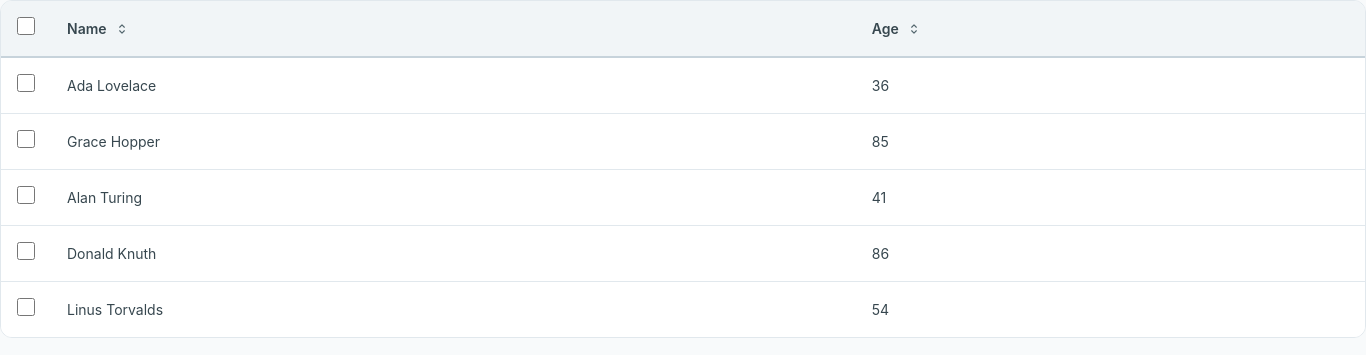
Scenario: DataTable › selection › header checkbox is indeterminate when some (not all) page rows are selected
The width and height of the screenshot is (1366, 355).
Click the checkbox named "Select row ": (26, 83) [17, 74, 35, 92]
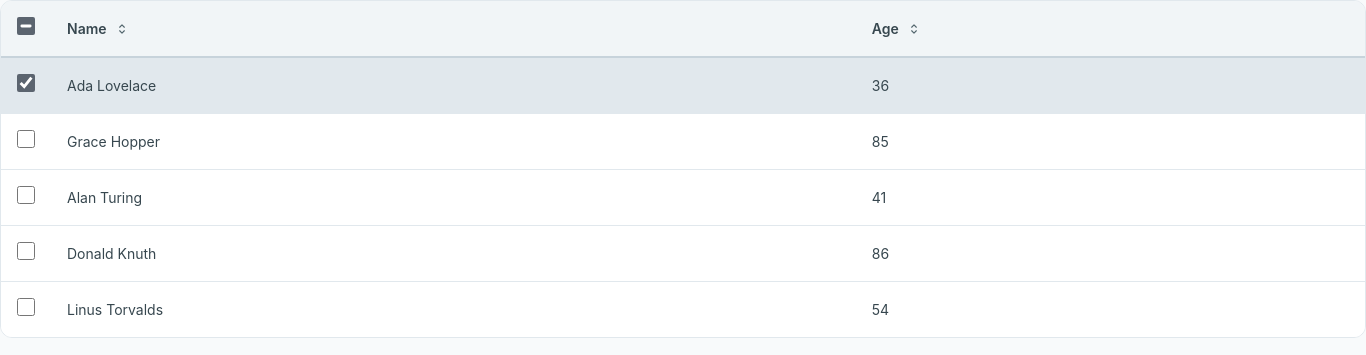
Expected: the checkbox named "Select all rows on this page" is not checked, [17, 17, 35, 35]
Click the checkbox named "Select row ": (26, 139) [17, 130, 35, 148]
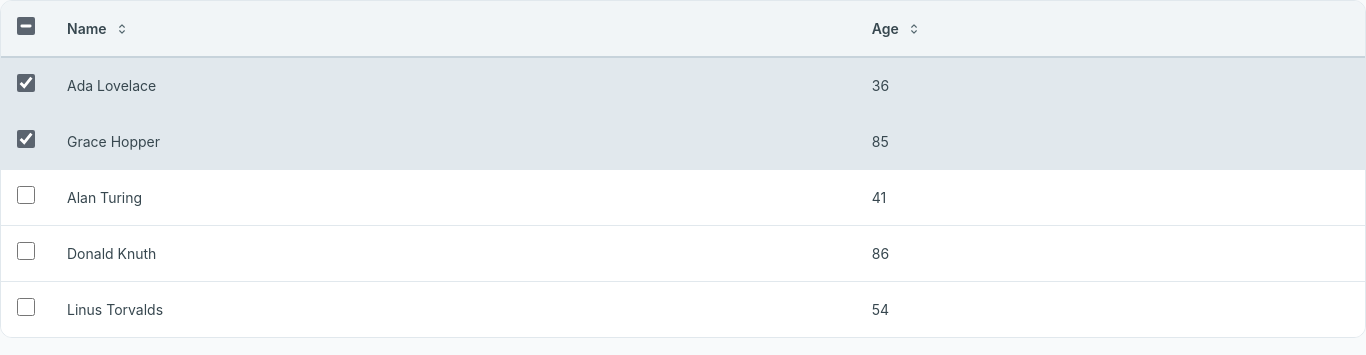
Click the checkbox named "Select row ": (26, 195) [17, 186, 35, 204]
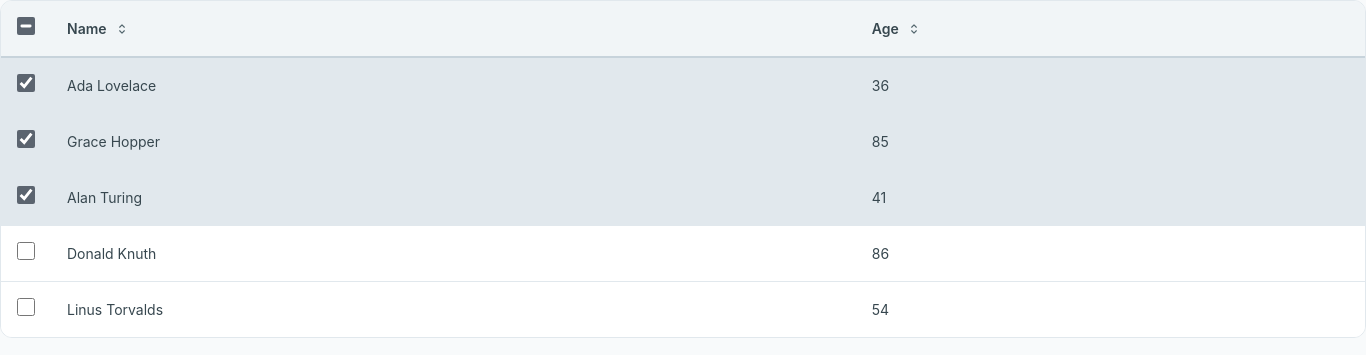
Click the checkbox named "Select row ": (26, 251) [17, 242, 35, 260]
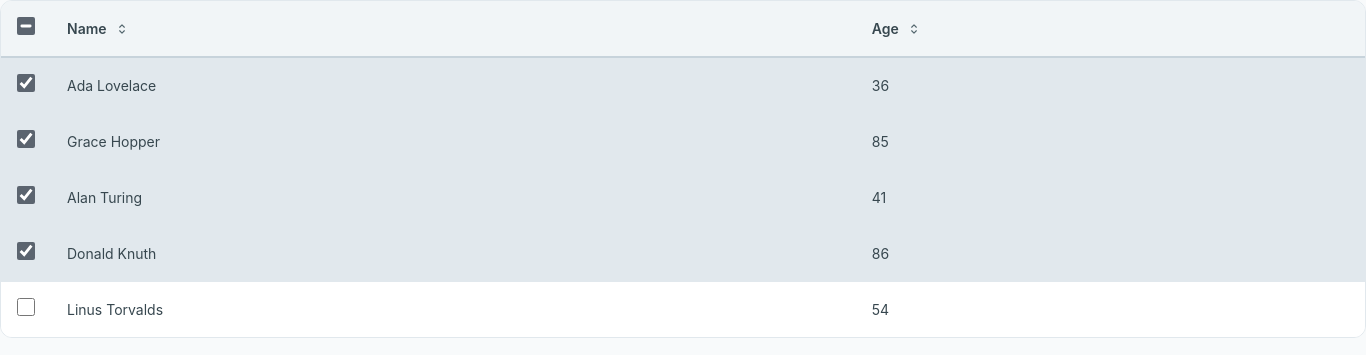
Click the checkbox named "Select row ": (26, 307) [17, 298, 35, 316]
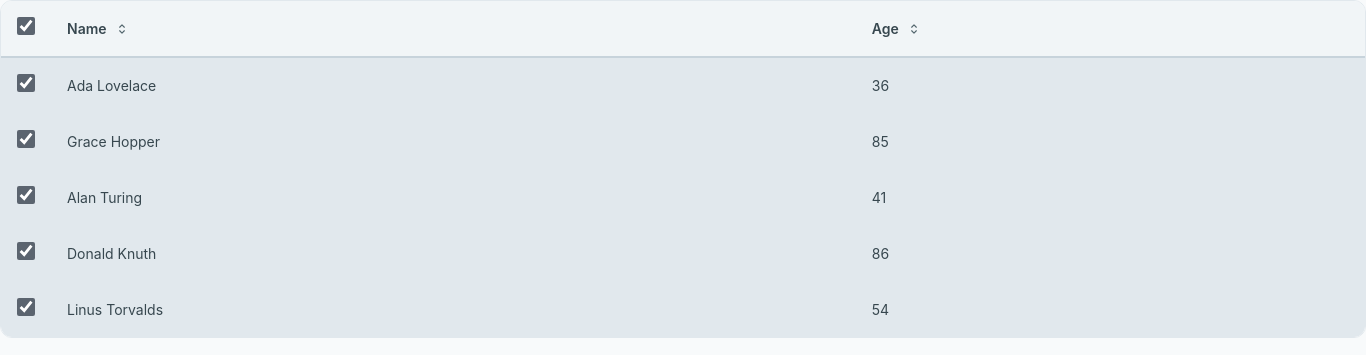
Expected: the checkbox named "Select all rows on this page" is checked, [17, 17, 35, 35]
